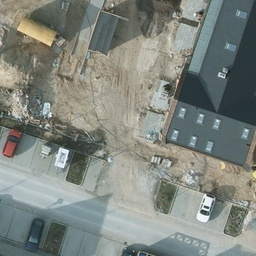car: (0, 127, 27, 159), (23, 217, 45, 252), (195, 194, 215, 222)
